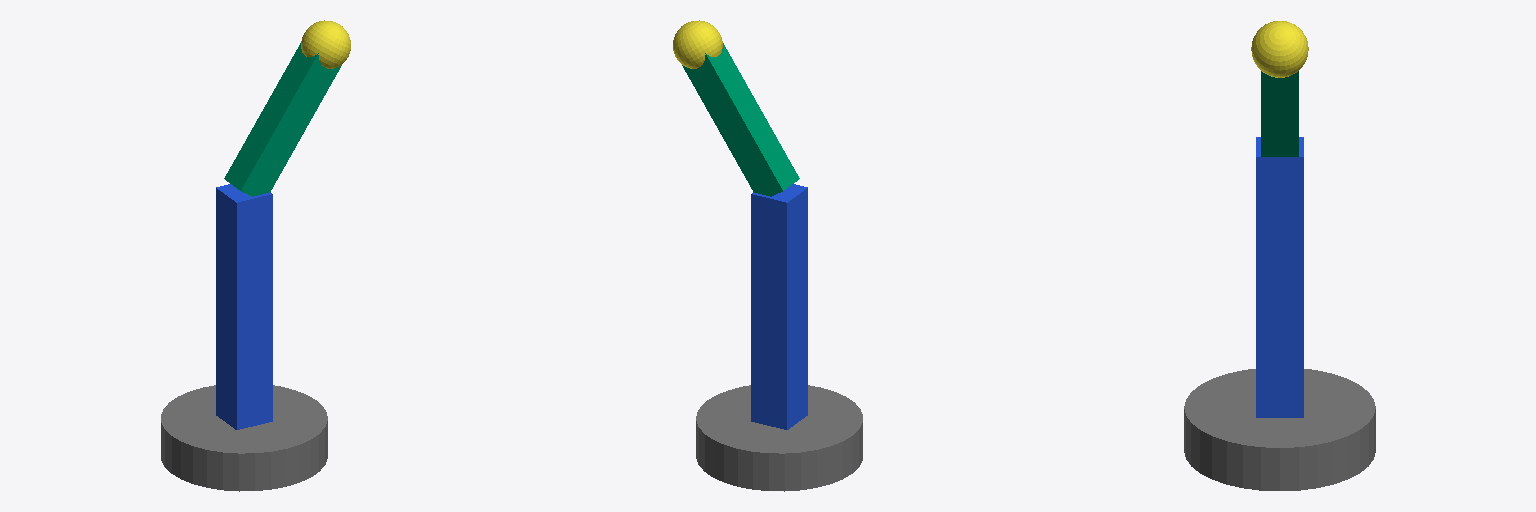
robot.urdf — test_arm:
<?xml version="1.0"?>
<!-- 테스트용 2축 로봇 팔 (UTF-8 주석) -->
<robot name="test_arm">
  <link name="base_link">
    <visual><geometry><cylinder radius="0.1" length="0.05"/></geometry>
      <material name="gray"><color rgba="0.5 0.5 0.5 1"/></material></visual>
  </link>
  <link name="upper_arm">
    <visual><origin xyz="0 0 0.15"/><geometry><box size="0.05 0.05 0.3"/></geometry>
      <material name="blue"><color rgba="0.2 0.4 0.9 1"/></material></visual>
  </link>
  <link name="forearm">
    <visual><origin xyz="0 0 0.1"/><geometry><box size="0.04 0.04 0.2"/></geometry></visual>
  </link>
  <link name="tool"><visual><geometry><sphere radius="0.03"/></geometry></visual></link>
  <joint name="shoulder" type="revolute"><parent link="base_link"/><child link="upper_arm"/>
    <origin xyz="0 0 0.025"/><axis xyz="0 1 0"/><limit lower="-1.57" upper="1.57" effort="10" velocity="1"/></joint>
  <joint name="elbow" type="revolute"><parent link="upper_arm"/><child link="forearm"/>
    <origin xyz="0 0 0.3" rpy="0 0.6 0"/><axis xyz="0 1 0"/><limit lower="-2" upper="2" effort="10" velocity="1"/></joint>
  <joint name="wrist" type="fixed"><parent link="forearm"/><child link="tool"/><origin xyz="0 0 0.2"/></joint>
</robot>

--- Render facts (derived) ---
Views: 3 orthographic renders of the robot side by side, from view 1: azimuth 30°, elevation 25°; view 2: azimuth 150°, elevation 25°; view 3: azimuth 270°, elevation 25°.
Model test_arm with 4 links and 3 joints (2 revolute, 1 fixed), rooted at base_link, posed every joint at zero.
Visible links, largest first — view 1: upper_arm, base_link, forearm, tool; view 2: upper_arm, base_link, forearm, tool; view 3: base_link, upper_arm, forearm, tool.
Boxes of the visible links, <box> form: upper_arm: <box>216,184,272,429</box>; base_link: <box>161,385,327,491</box>; forearm: <box>224,43,341,196</box>; tool: <box>301,20,350,68</box>; upper_arm: <box>751,184,807,429</box>; base_link: <box>696,385,862,491</box>; forearm: <box>682,43,799,196</box>; tool: <box>673,20,722,68</box>; base_link: <box>1184,369,1375,490</box>; upper_arm: <box>1256,137,1303,417</box>; forearm: <box>1261,71,1298,156</box>; tool: <box>1251,21,1308,77</box>.
Size in the robot's own frame: 0.2429 by 0.2 by 0.5451 metres.
Geometry: primitives only (box / cylinder / sphere), no mesh files.
